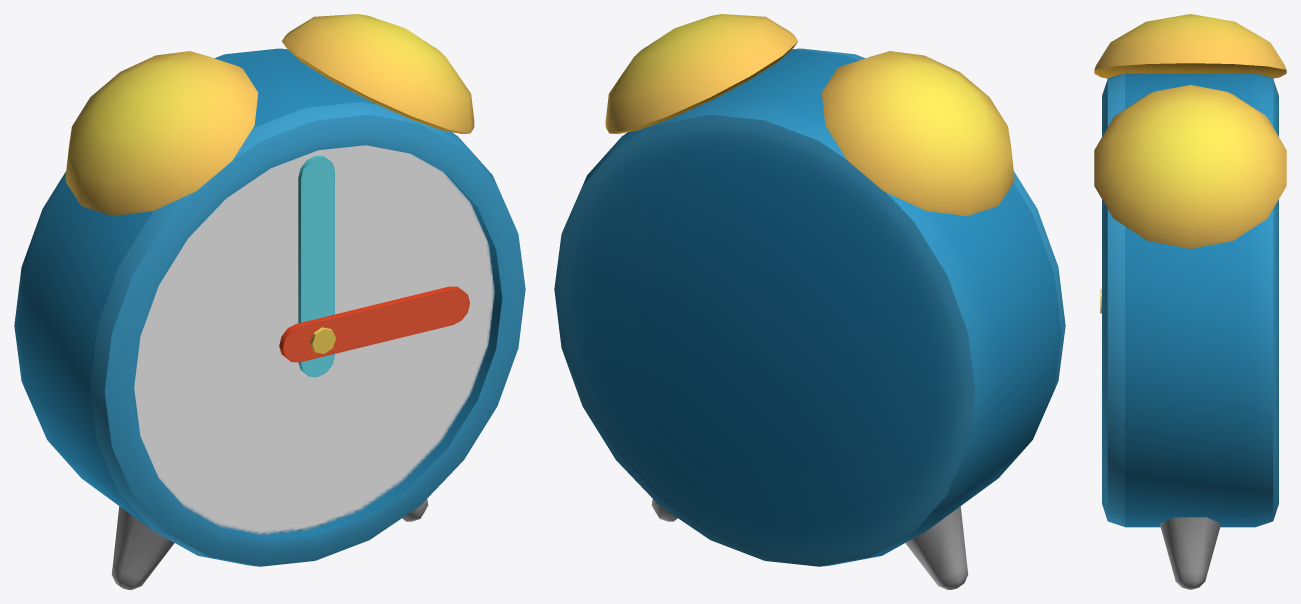
Rendered from ENV2010028.fbx.
The picture shows the model from 3 angles, left to right: view 1: azimuth 30°, elevation 25°; view 2: azimuth 150°, elevation 25°; view 3: azimuth 270°, elevation 25°; orthographic projection. The views are drawn at different scales.
Parts seen in each view (by area): view 1: smENV2010028; view 2: smENV2010028; view 3: smENV2010028.
Boxes of the visible parts, left/top/right/bottom form: smENV2010028: left=14, top=14, right=525, bottom=589; smENV2010028: left=554, top=14, right=1065, bottom=589; smENV2010028: left=1094, top=14, right=1286, bottom=589.
Size of the model in its own units: 10.63 by 11.95 by 4.48.
1 material, 1 textured.
